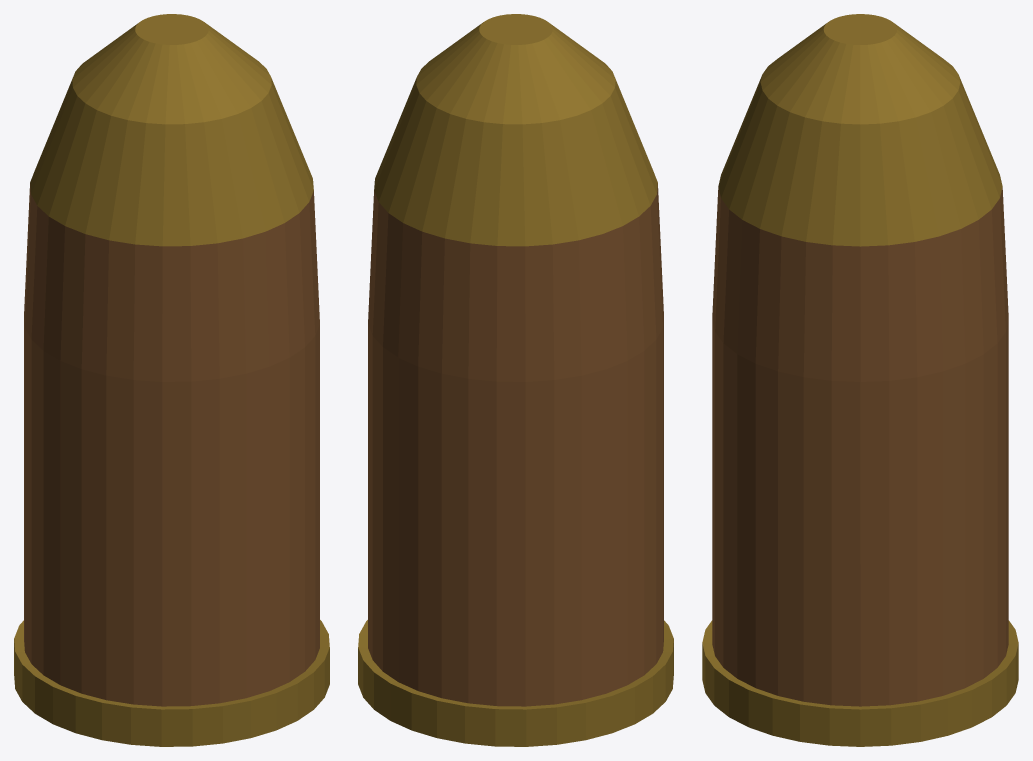
Rendered from Pistol Bullet.fbx.
3 renders of one model, left to right at view 1: azimuth 30°, elevation 25°; view 2: azimuth 150°, elevation 25°; view 3: azimuth 270°, elevation 25°, orthographic.
Parts seen in each view (by area): view 1: Cylinder; view 2: Cylinder; view 3: Cylinder.
Part boxes in pixels (<box>): Cylinder: <box>14,14,329,746</box>; Cylinder: <box>358,14,673,746</box>; Cylinder: <box>702,14,1018,746</box>.
Bounding box in the file's own units: 30.88 × 70.08 × 30.88.
